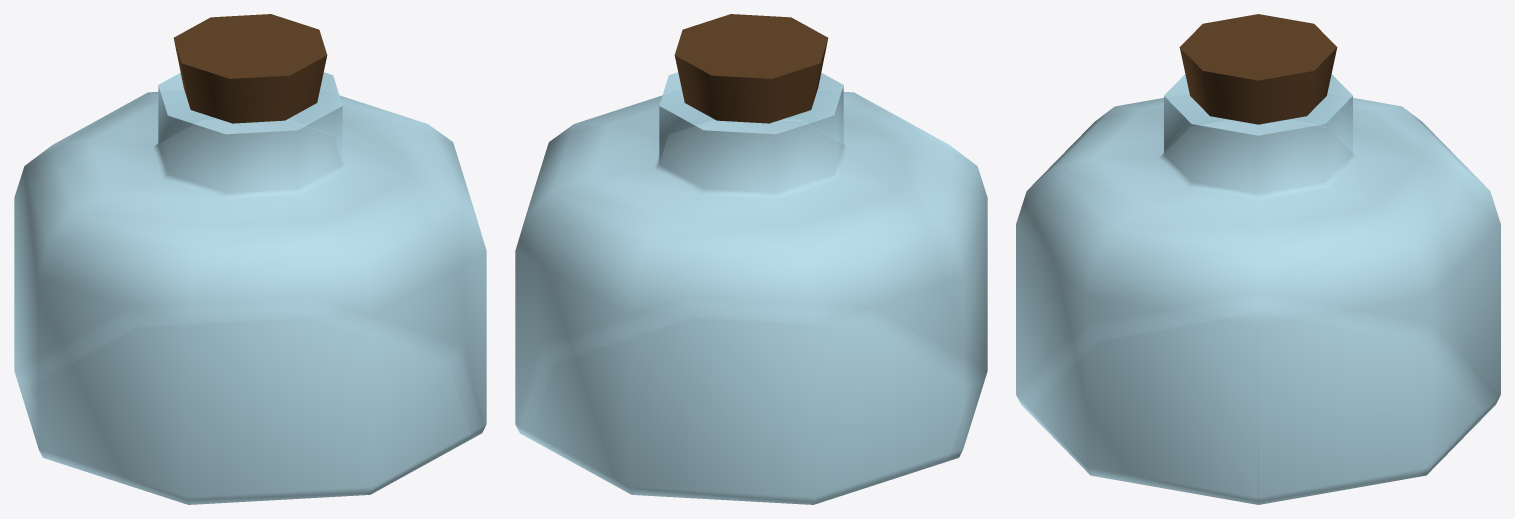
The model's file is Bottle.glb.
The picture shows the model from 3 angles, left to right: view 1: azimuth 30°, elevation 25°; view 2: azimuth 150°, elevation 25°; view 3: azimuth 270°, elevation 25°; orthographic projection.
Visible parts, largest first — view 1: Cylinder; view 2: Cylinder; view 3: Cylinder.
Part boxes in pixels (x1,y1,x2,y2): Cylinder: (14,14,486,504); Cylinder: (515,14,987,504); Cylinder: (1016,14,1500,504).
Bounding box in the file's own units: 2 × 1.64 × 2.
